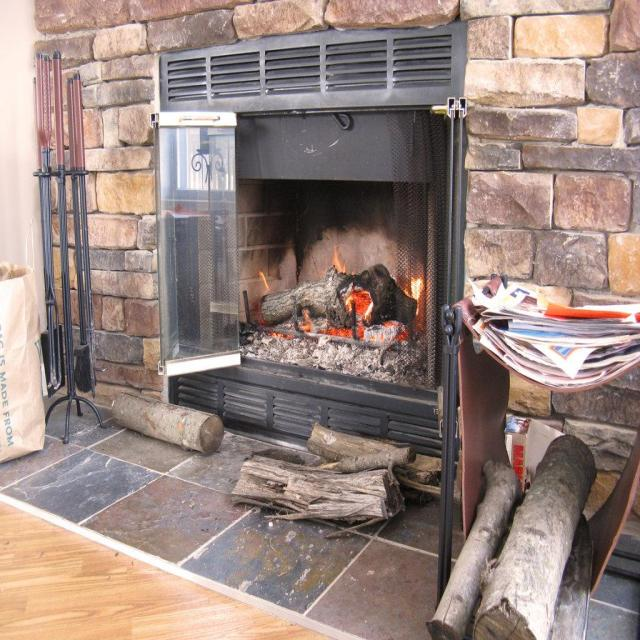Fire: (255, 246, 426, 344)
